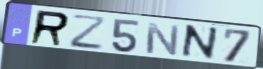5: (110, 17, 141, 54)
7: (222, 27, 254, 65)
N: (178, 23, 220, 62), (144, 22, 181, 58)
R: (28, 9, 72, 48)
Z: (69, 14, 108, 52)
